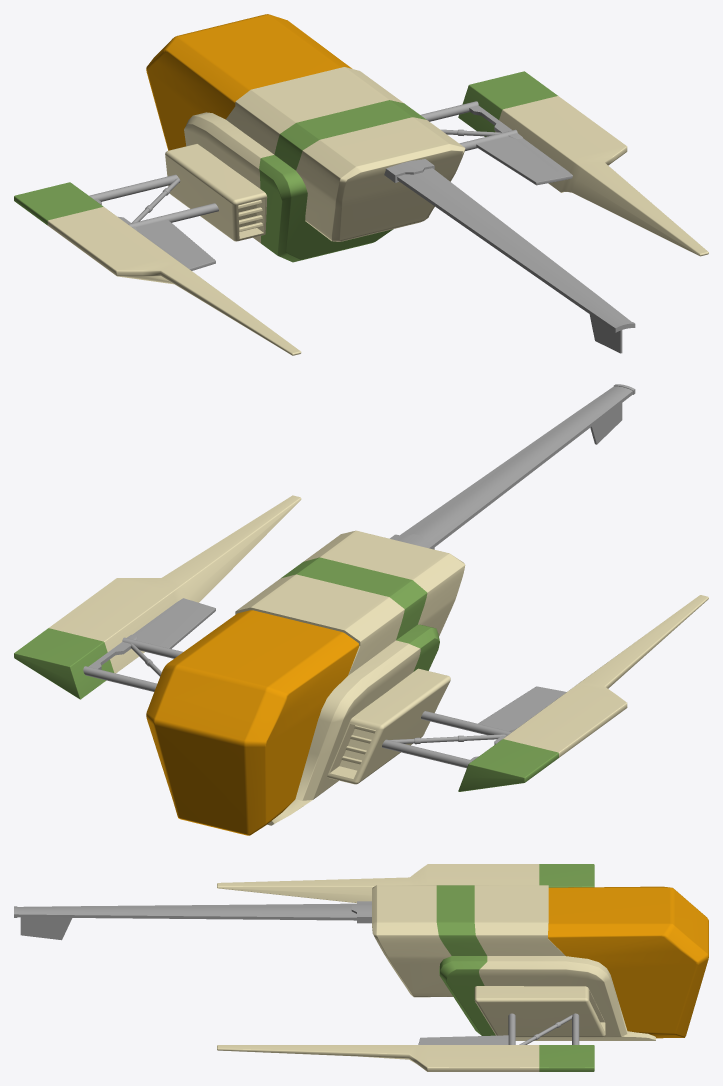
The model's file is dragonfly.fbx.
3 views of the same model, one above another, from view 1: azimuth 30°, elevation 25°; view 2: azimuth 150°, elevation 25°; view 3: azimuth 270°, elevation 25° (orthographic). The views are drawn at different scales.
Visible parts, largest first — view 1: hull_body, windshield1, r_wing, l_wing, tail, L_Engine, r_arm_with_fin, l_arm_with_fin, l_wing_front_pipe, l_wing_back_pipe; view 2: windshield1, hull_body, r_wing, l_wing, tail, L_Engine, r_arm_with_fin, l_arm_with_fin, l_wing_front_pipe, l_wing_back_pipe, r_wing_front_pipe; view 3: hull_body, windshield1, l_wing, r_wing, tail, R_Engine, r_arm_with_fin.
Boxes of the visible parts, x1,y1,x2,y2 form: hull_body: [184, 67, 465, 262]; windshield1: [146, 14, 352, 150]; r_wing: [458, 71, 708, 256]; l_wing: [14, 182, 301, 355]; tail: [384, 159, 635, 353]; L_Engine: [165, 144, 267, 241]; r_arm_with_fin: [469, 105, 572, 185]; l_arm_with_fin: [94, 198, 215, 270]; l_wing_front_pipe: [89, 174, 179, 201]; l_wing_back_pipe: [128, 203, 218, 226]; windshield1: [146, 610, 359, 835]; hull_body: [235, 530, 465, 825]; r_wing: [14, 495, 301, 699]; l_wing: [458, 595, 708, 791]; tail: [390, 384, 635, 549]; L_Engine: [327, 668, 450, 784]; r_arm_with_fin: [88, 598, 215, 669]; l_arm_with_fin: [470, 686, 566, 760]; l_wing_front_pipe: [382, 739, 472, 768]; l_wing_back_pipe: [421, 711, 511, 735]; r_wing_front_pipe: [83, 666, 157, 691]; hull_body: [372, 885, 655, 1040]; windshield1: [548, 886, 708, 1038]; l_wing: [217, 864, 594, 903]; r_wing: [217, 1045, 594, 1071]; tail: [14, 901, 371, 940]; R_Engine: [474, 986, 605, 1037]; r_arm_with_fin: [418, 1035, 508, 1044].
Bounding box in the file's own units: 698 × 194 × 1007.
